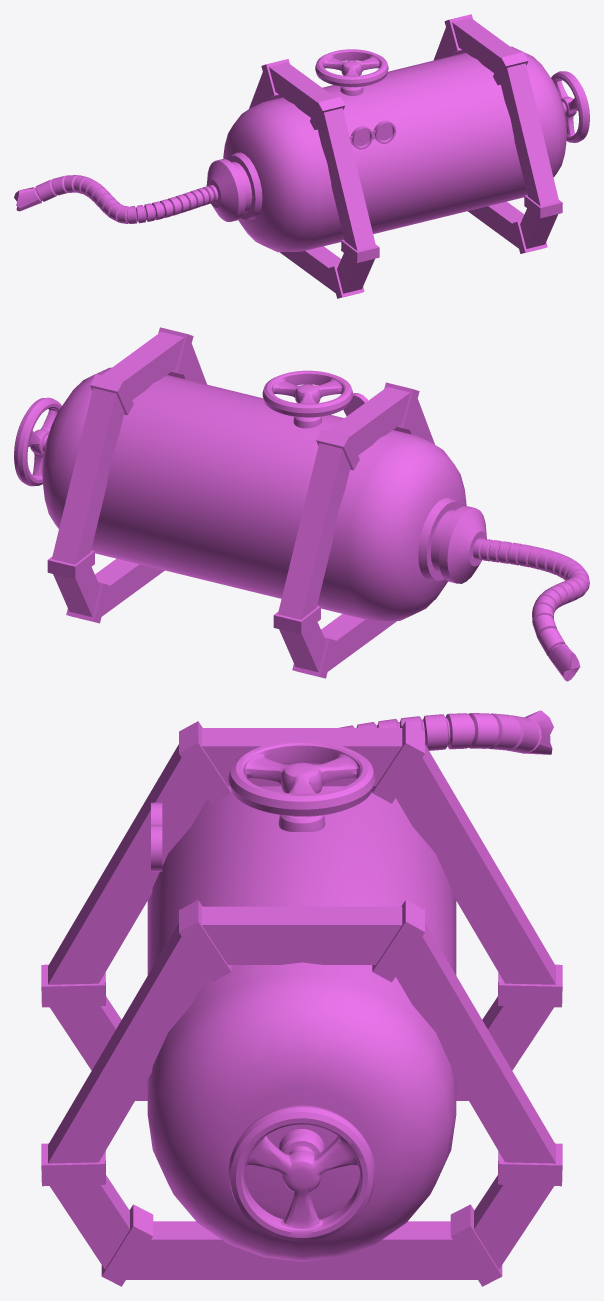
File: Fuel Tank.fbx
3 renders of one model, top to bottom at view 1: azimuth 30°, elevation 25°; view 2: azimuth 150°, elevation 25°; view 3: azimuth 270°, elevation 25°, orthographic. The views are drawn at different scales.
Parts seen in each view (by area): view 1: Tank; view 2: Tank; view 3: Tank.
Part boxes in pixels (x1,y1,x2,y2): Tank: (14, 14, 589, 298); Tank: (14, 327, 589, 681); Tank: (41, 710, 562, 1286).
Size of the model in its own units: 935 by 336 by 422.
